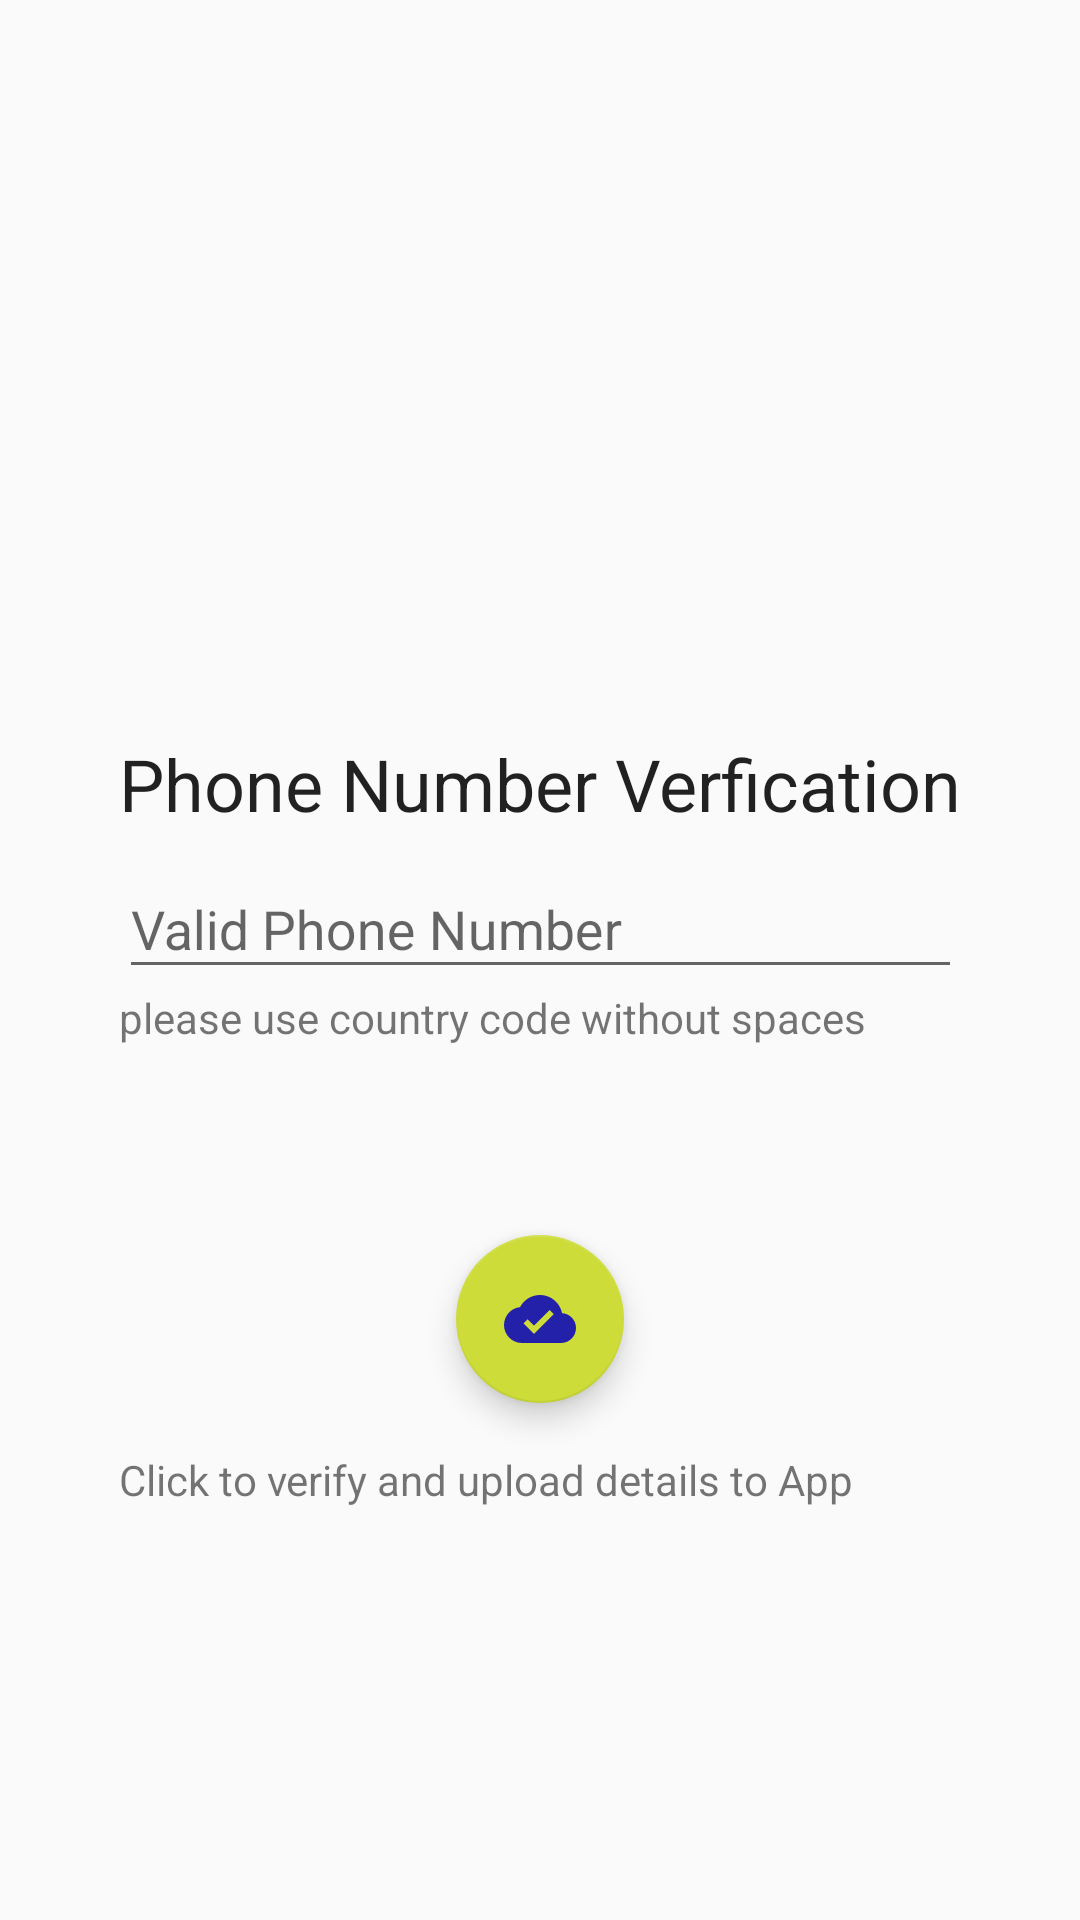

Point at icon controls on the screen. Image size 1080 x 1920, points as (x,y).
cloud done: (540,1319)
